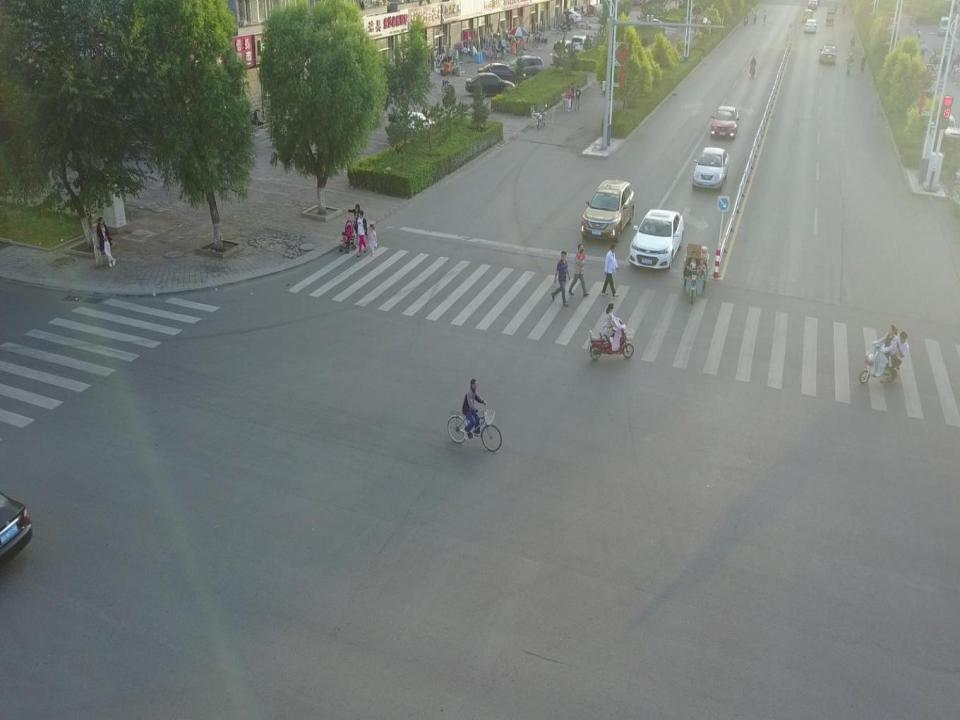car: (627, 207, 682, 274), (582, 178, 633, 244), (692, 148, 728, 189), (465, 72, 516, 95), (478, 62, 526, 85), (504, 54, 544, 81), (710, 104, 738, 140), (552, 39, 572, 61), (570, 35, 588, 56), (819, 45, 836, 63), (561, 8, 581, 22), (939, 16, 951, 35), (805, 18, 816, 32), (802, 9, 813, 21), (807, 0, 817, 11)
